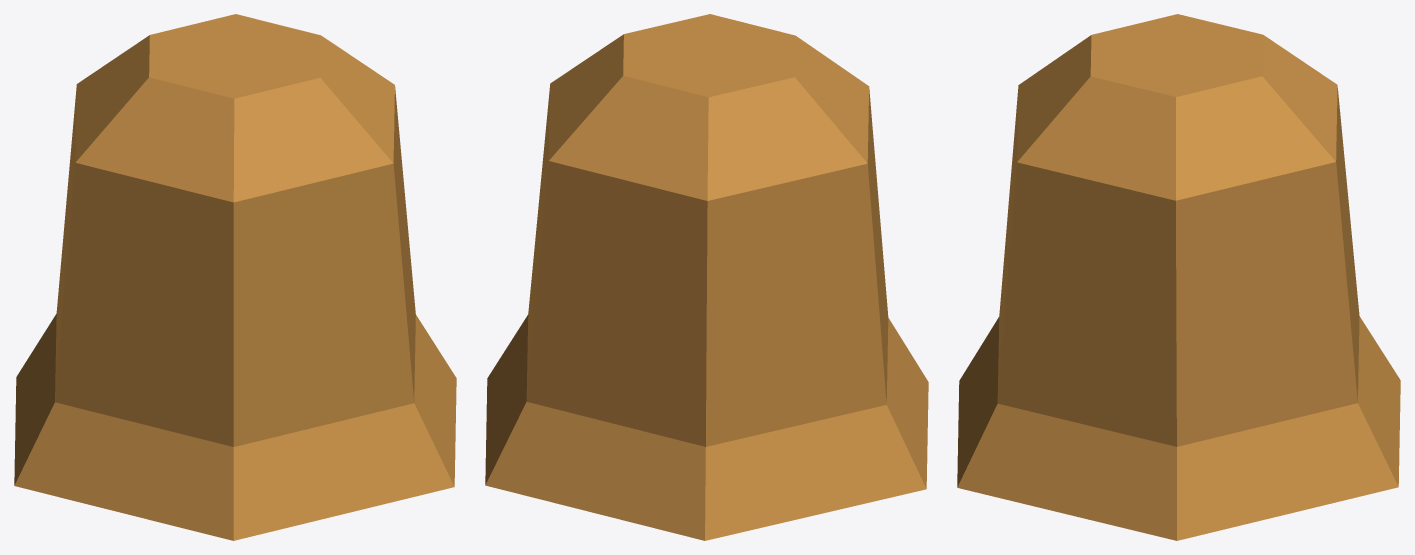
File: Bell_small.fbx
3 renders of one model, left to right at view 1: azimuth 30°, elevation 25°; view 2: azimuth 150°, elevation 25°; view 3: azimuth 270°, elevation 25°, orthographic.
Parts seen in each view (by area): view 1: Bell_small; view 2: Bell_small; view 3: Bell_small.
Boxes of the visible parts, box(x1,y1,x2,y2) form: Bell_small: box(14, 14, 456, 540); Bell_small: box(485, 14, 928, 540); Bell_small: box(957, 14, 1400, 540).
Size of the model in its own units: 0.0825 by 0.0727 by 0.0718.
